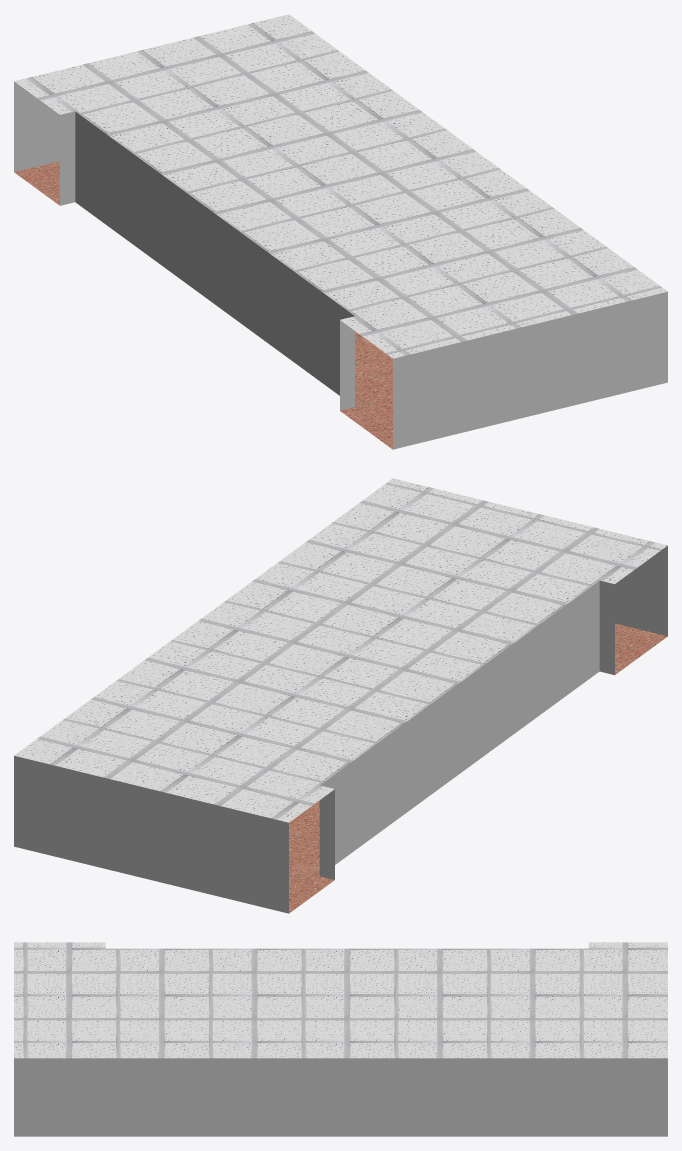
File: Lab_002.FBX
3 views of the same model, one above another, from view 1: azimuth 30°, elevation 25°; view 2: azimuth 150°, elevation 25°; view 3: azimuth 270°, elevation 25° (orthographic). The views are drawn at different scales.
Visible parts, largest first — view 1: Lab_002; view 2: Lab_002; view 3: Lab_002.
Part boxes in pixels (<box>): Lab_002: <box>14,14,667,449</box>; Lab_002: <box>14,478,667,913</box>; Lab_002: <box>14,942,667,1136</box>.
Size of the model in its own units: 26.76 by 8.47 by 63.87.
